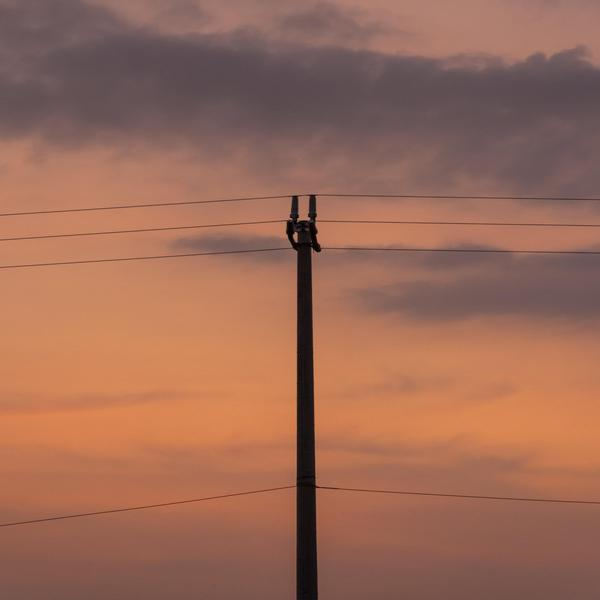utility_pole: (277, 187, 330, 275)
